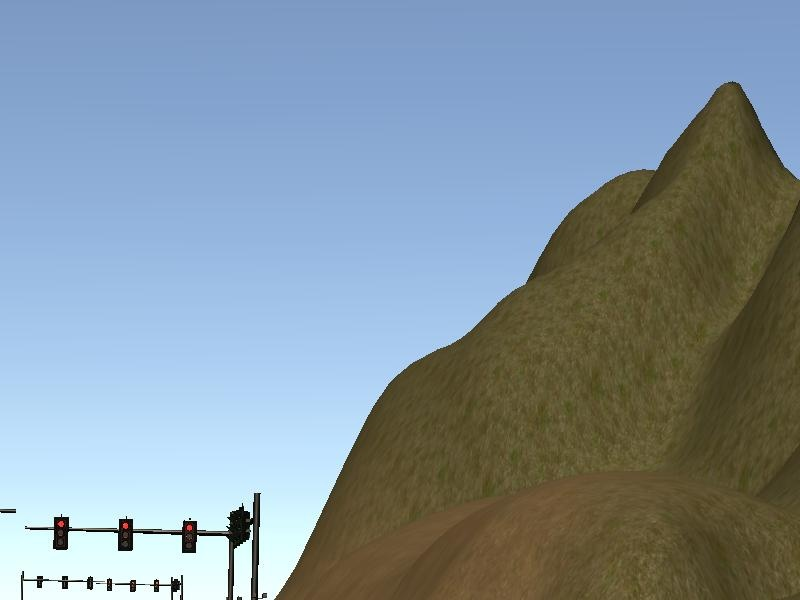red: (110, 514, 139, 553), (50, 512, 72, 553), (177, 517, 200, 556)
